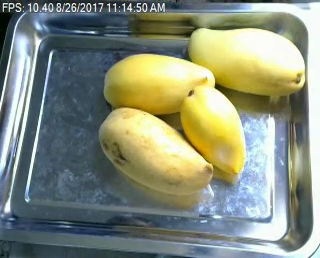Mango: (98, 108, 211, 194), (188, 27, 305, 94), (103, 53, 215, 112), (181, 86, 245, 174)
